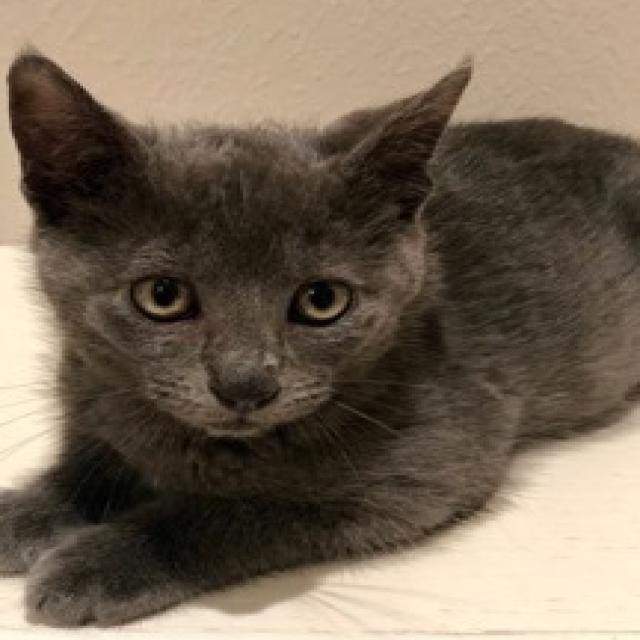Russian Blue: (0, 38, 640, 635)
